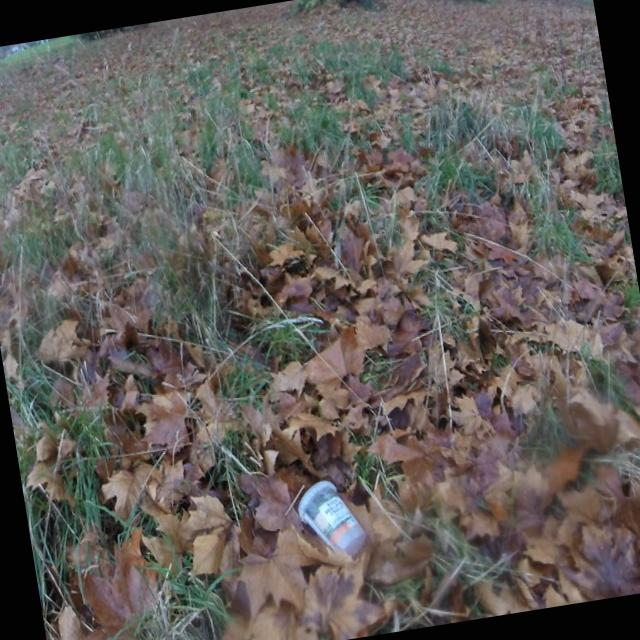Recycle: (294, 474, 372, 570)
